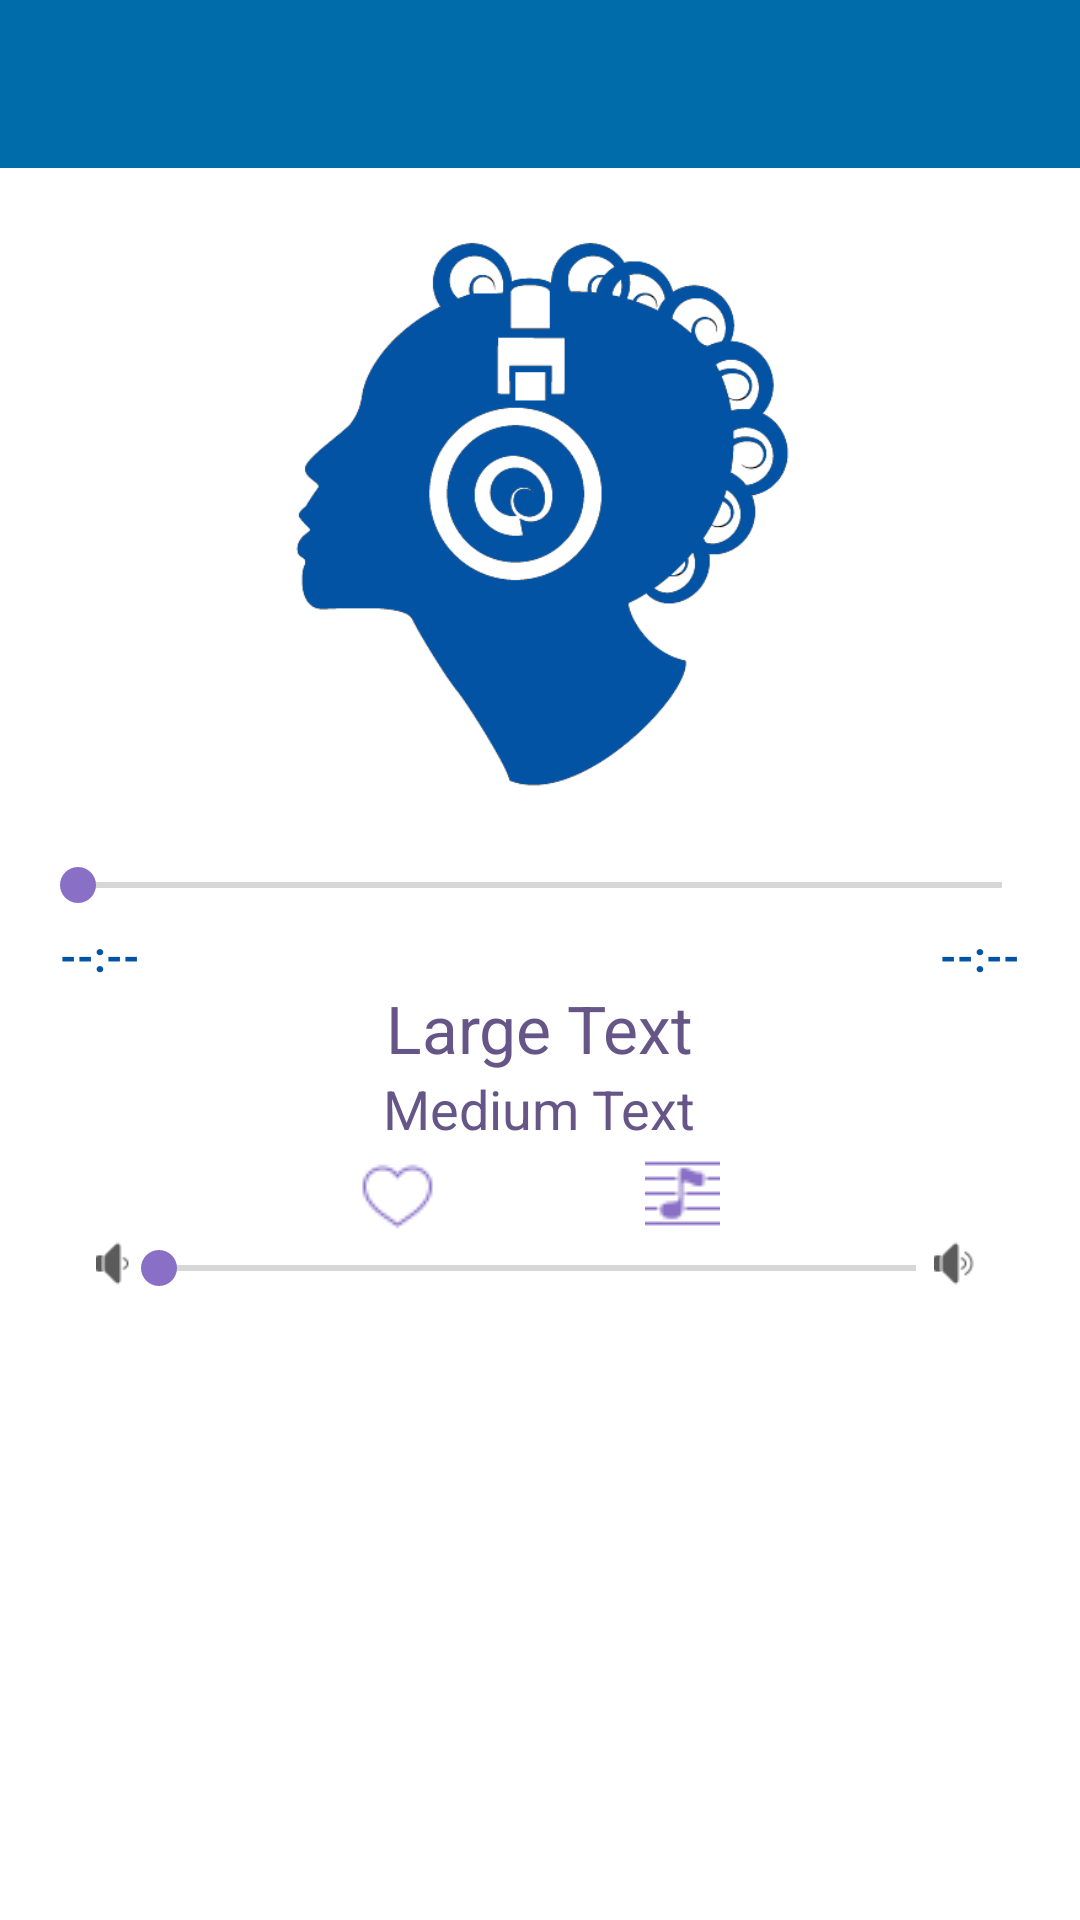

Named icons in this screenshot (1080px x 1920px) and their centers, (x,y):
like unpressed: (397,1196)
playlist: (682,1193)
volume down: (112,1263)
volume up: (954,1263)
